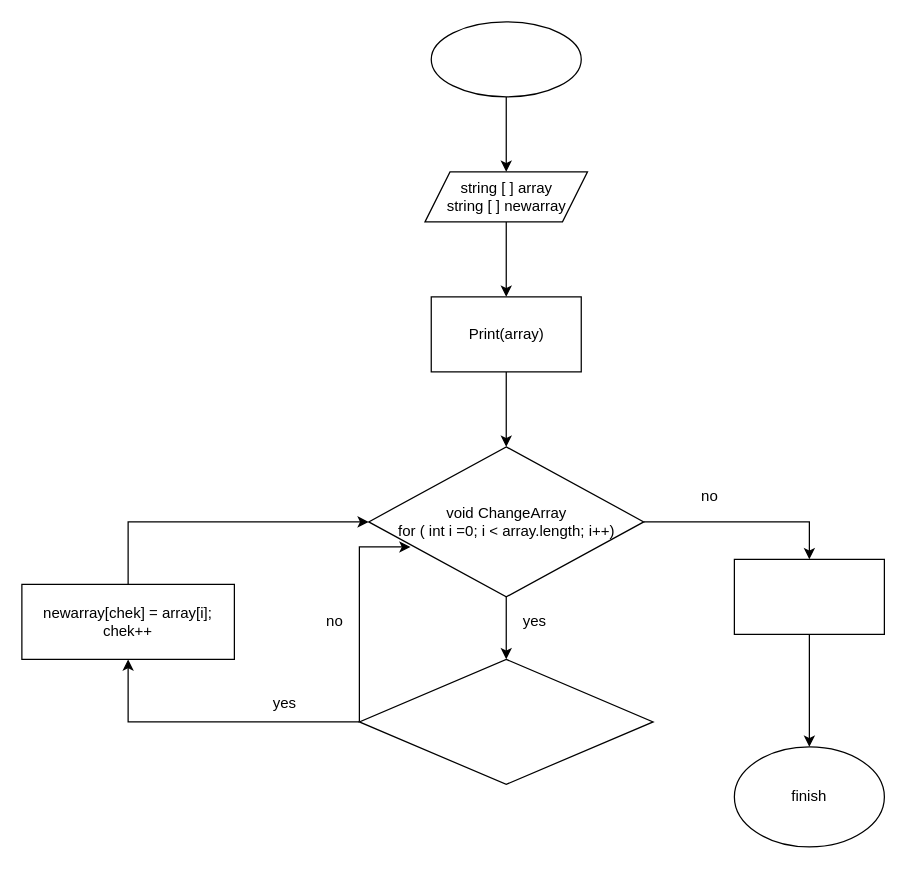
This 906x869 diagram has some shape labels left out. Here are the shapes that lost their labels. From the top down, the box of each, then its label:
(430, 21, 581, 97): Start
(733, 558, 884, 634): Print(newarray)
(358, 658, 653, 784): if array[i].Length <= 3
